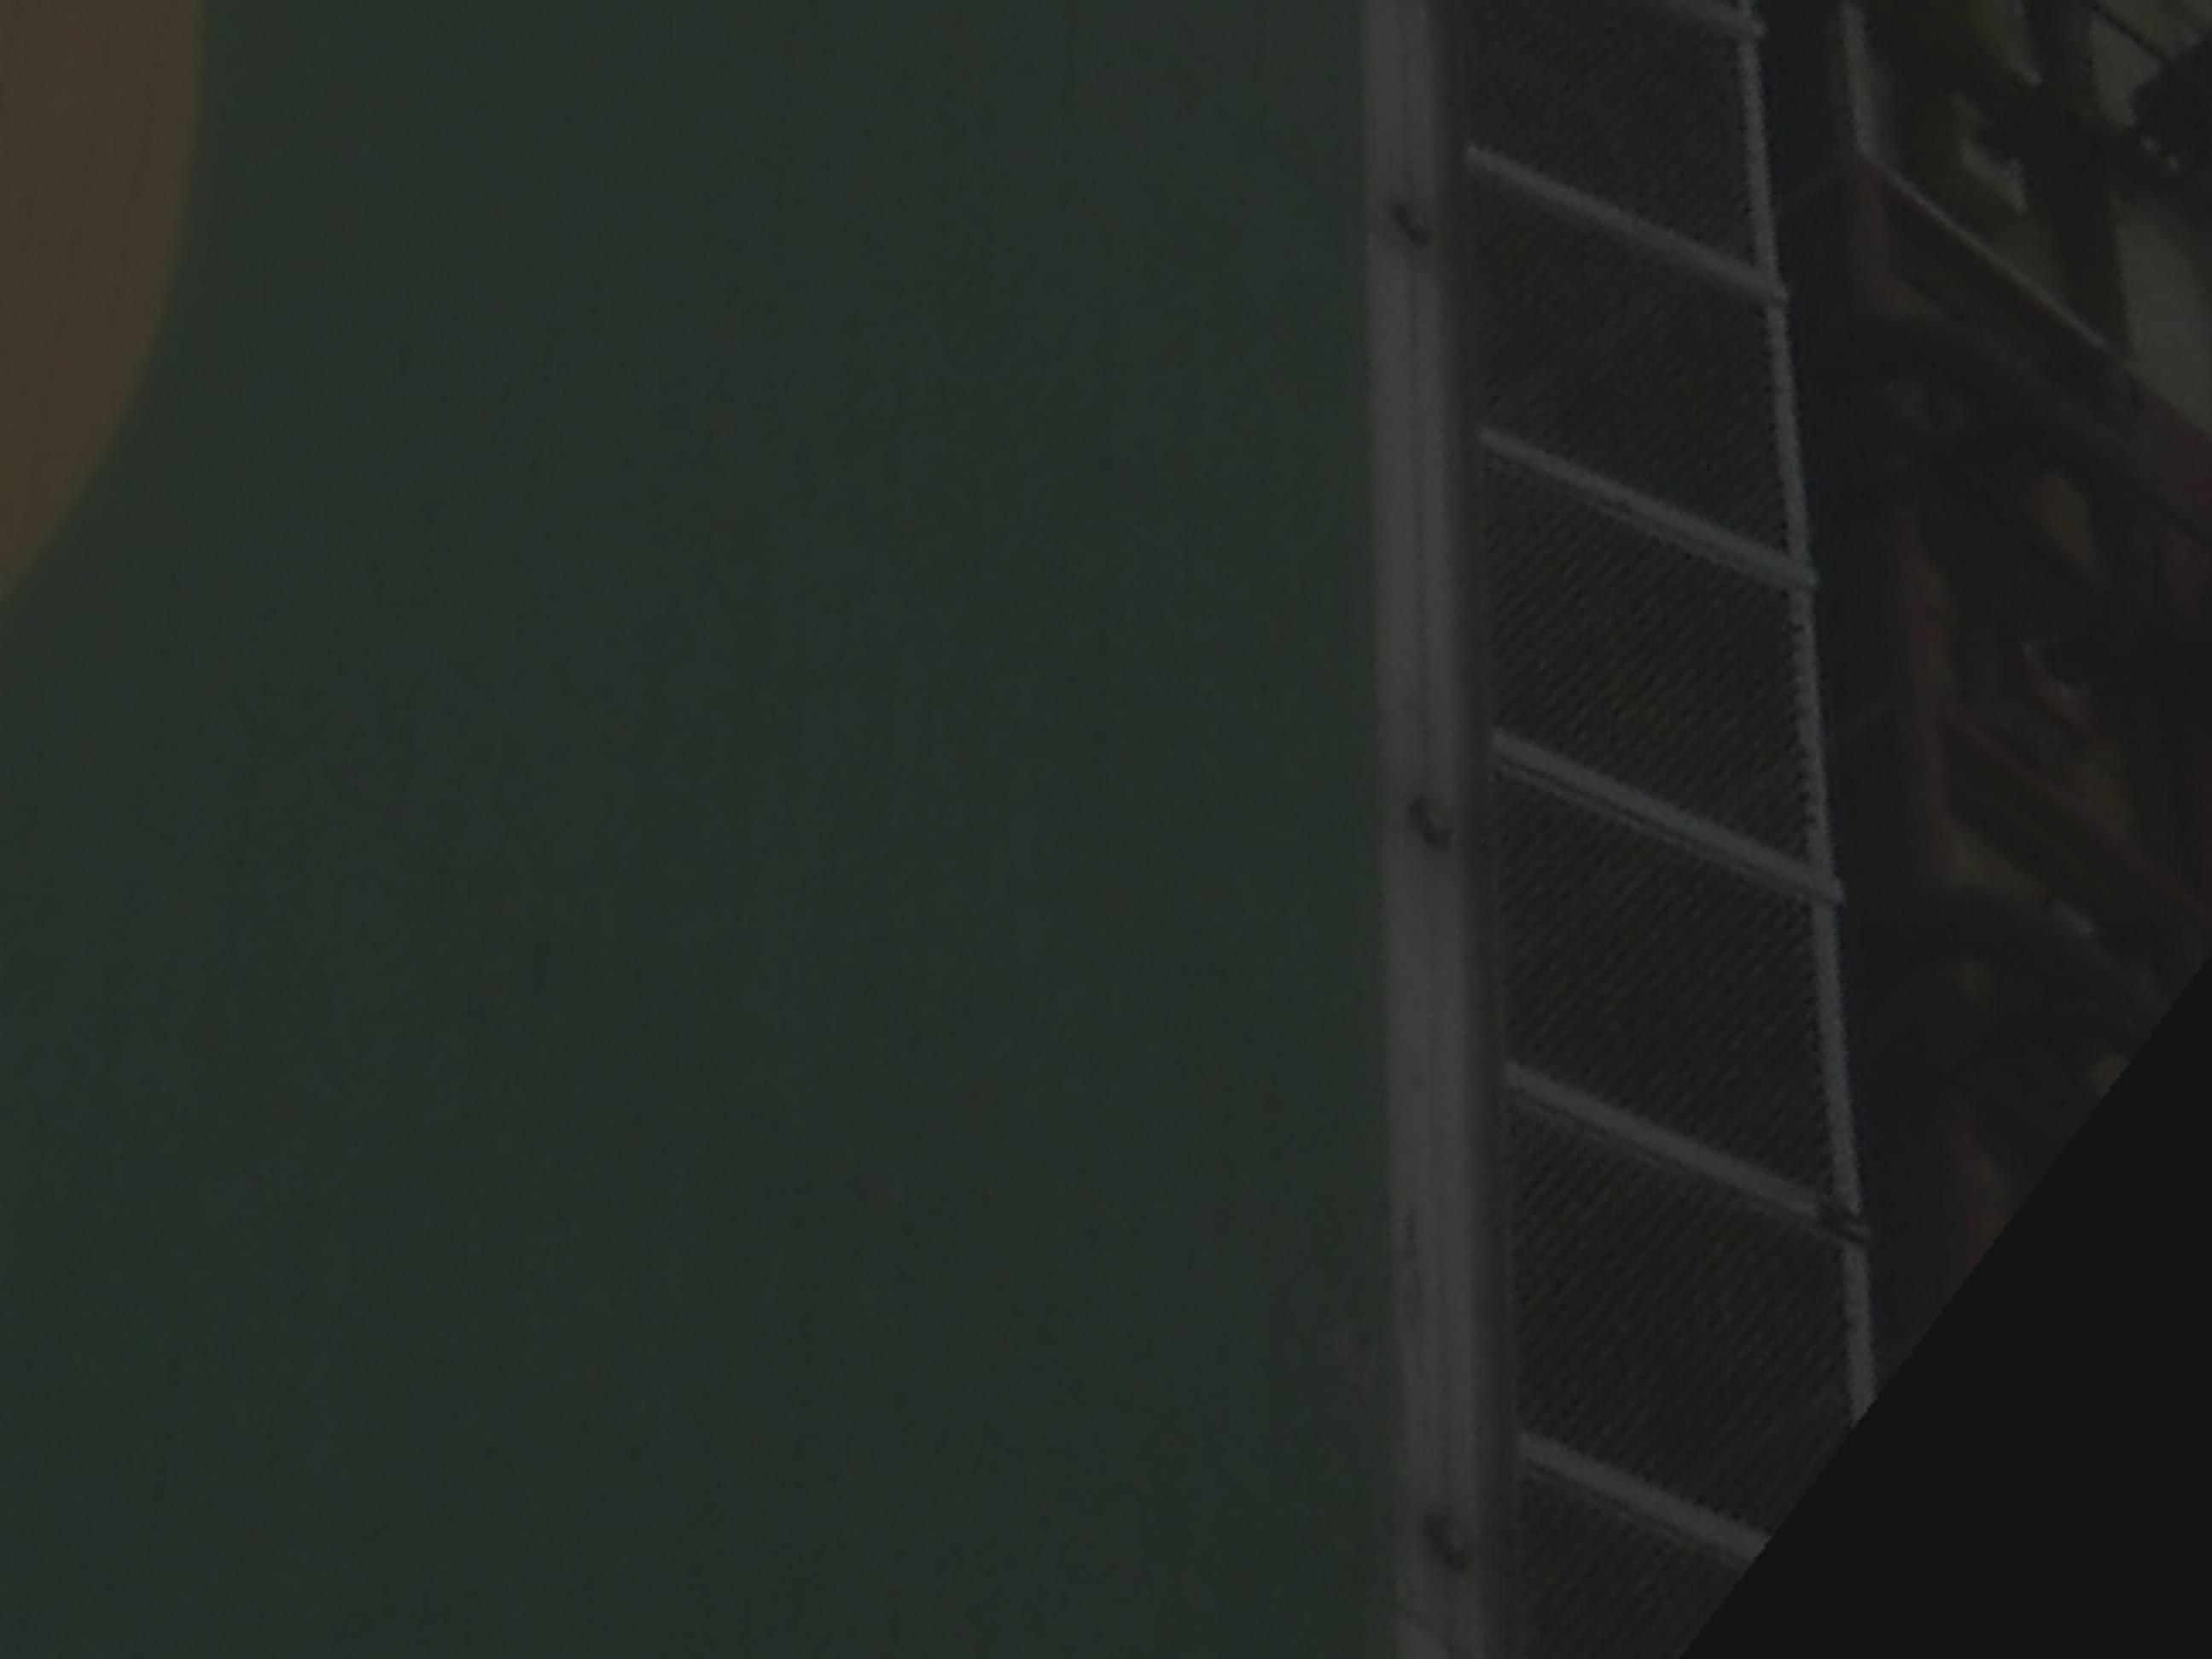Apron: (0, 0, 273, 699)
